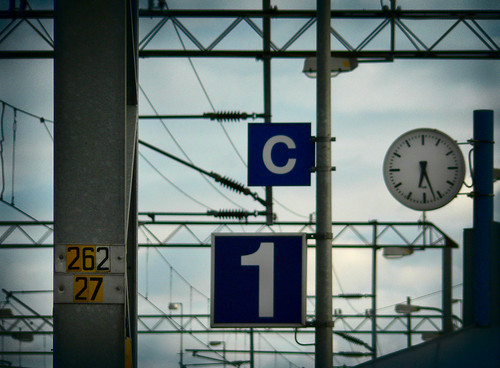clock: (383, 125, 471, 215)
sign: (207, 228, 304, 327), (242, 122, 312, 186)
